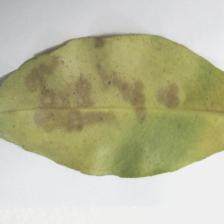black spot: (20, 57, 189, 141)
